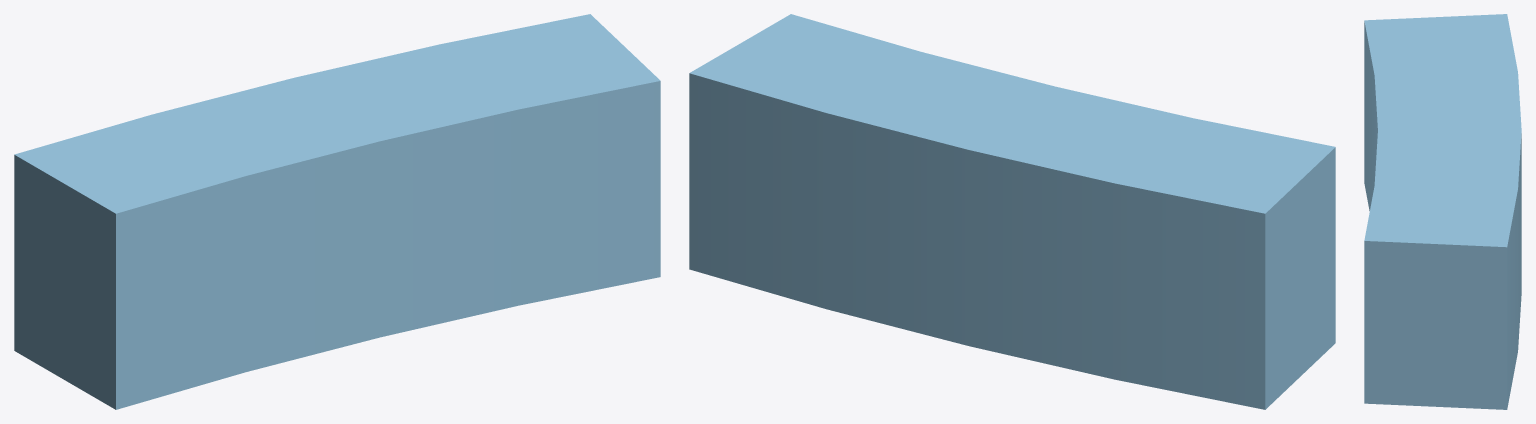
Rendered from led.dae.
3 views of the same model, side by side, from view 1: azimuth 30°, elevation 25°; view 2: azimuth 150°, elevation 25°; view 3: azimuth 270°, elevation 25° (orthographic). The views are drawn at different scales.
Parts seen in each view (by area): view 1: ID2; view 2: ID2; view 3: ID2.
Part boxes in pixels (left/top/right/bottom): ID2: left=14, top=14, right=660, bottom=409; ID2: left=689, top=14, right=1335, bottom=409; ID2: left=1364, top=14, right=1521, bottom=409.
Size of the model in its own units: 0.0154 by 0.00438 by 0.005.
